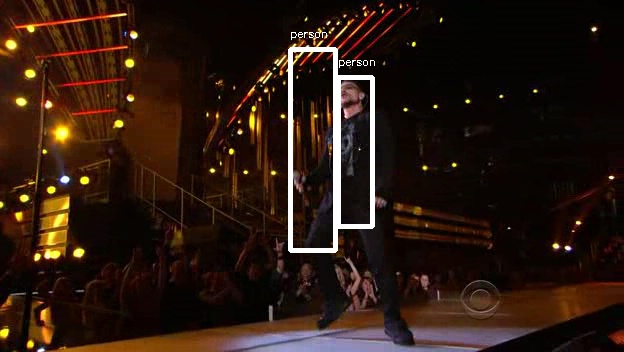person: (314, 80, 384, 229), (311, 80, 381, 229), (317, 80, 387, 229), (314, 77, 384, 226), (314, 83, 384, 232)
target_negative: (302, 92, 499, 331), (371, 76, 415, 239), (510, 9, 540, 127), (424, 208, 444, 258), (225, 7, 279, 25), (342, 309, 365, 316)
